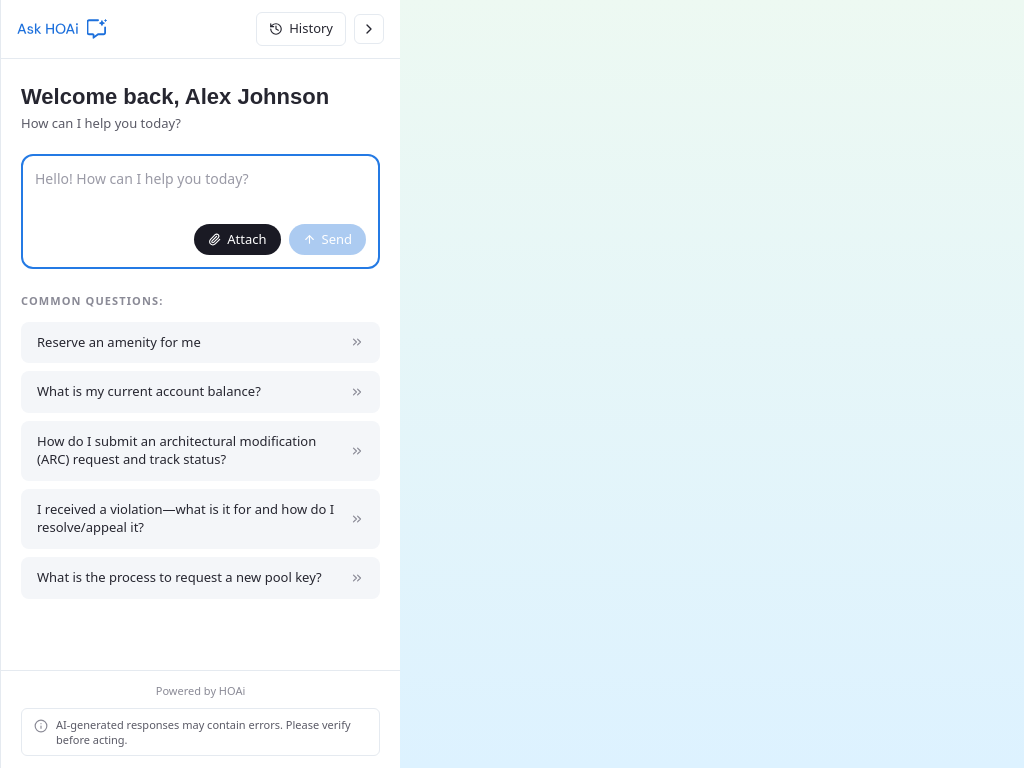
AskHoaiPanel conversation › Enter while an IME is composing does not send
Type "tennis" into the text box at (200,188), box [35, 168, 366, 210]
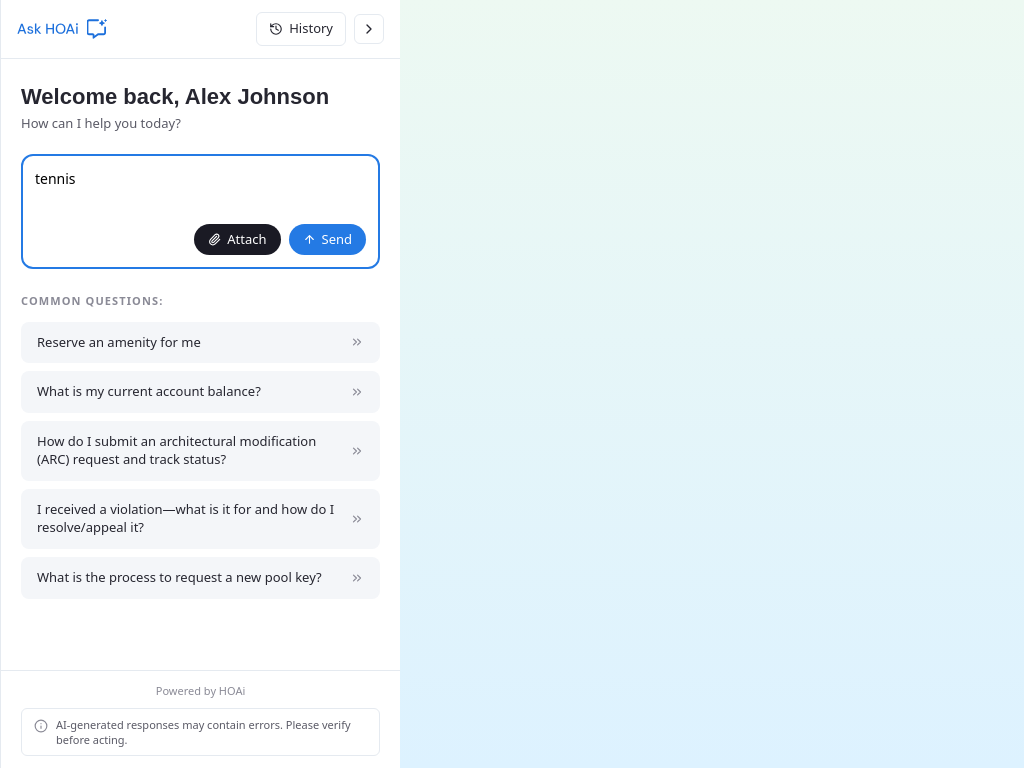
Press Enter in the text box, box [35, 168, 366, 210]
Expected: the heading "Welcome back, Alex Johnson" is shown, [21, 82, 380, 110]
Press Enter in the text box, box [35, 168, 366, 210]
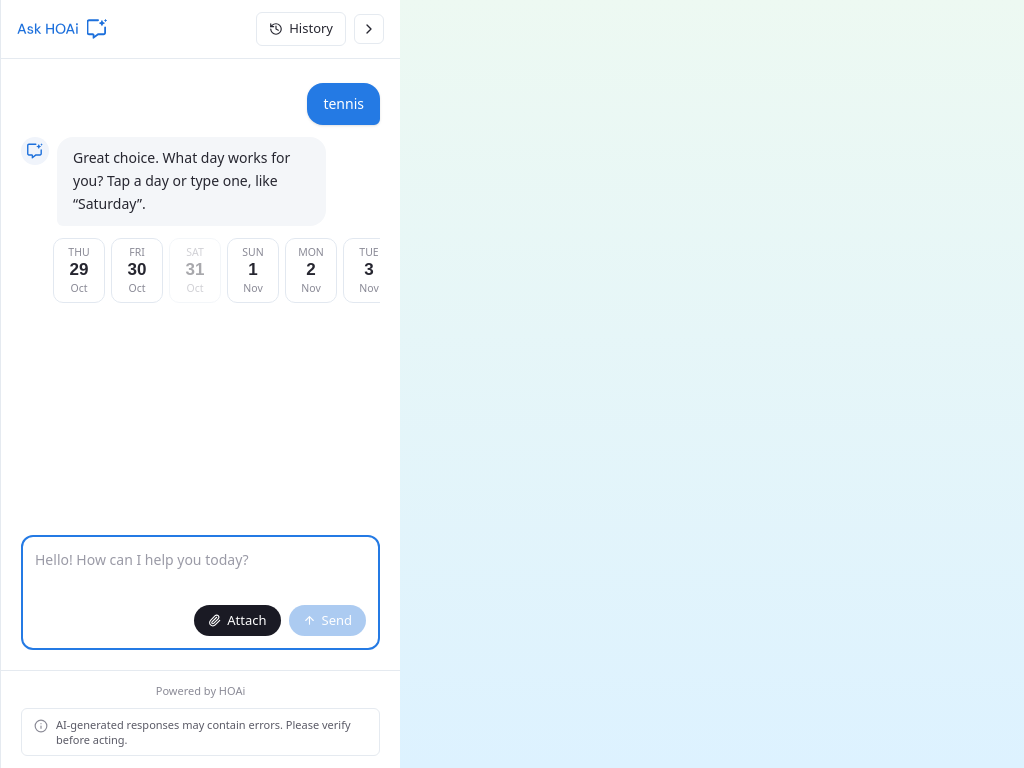
Expected: the text "Great choice" is shown, [73, 148, 294, 213]
